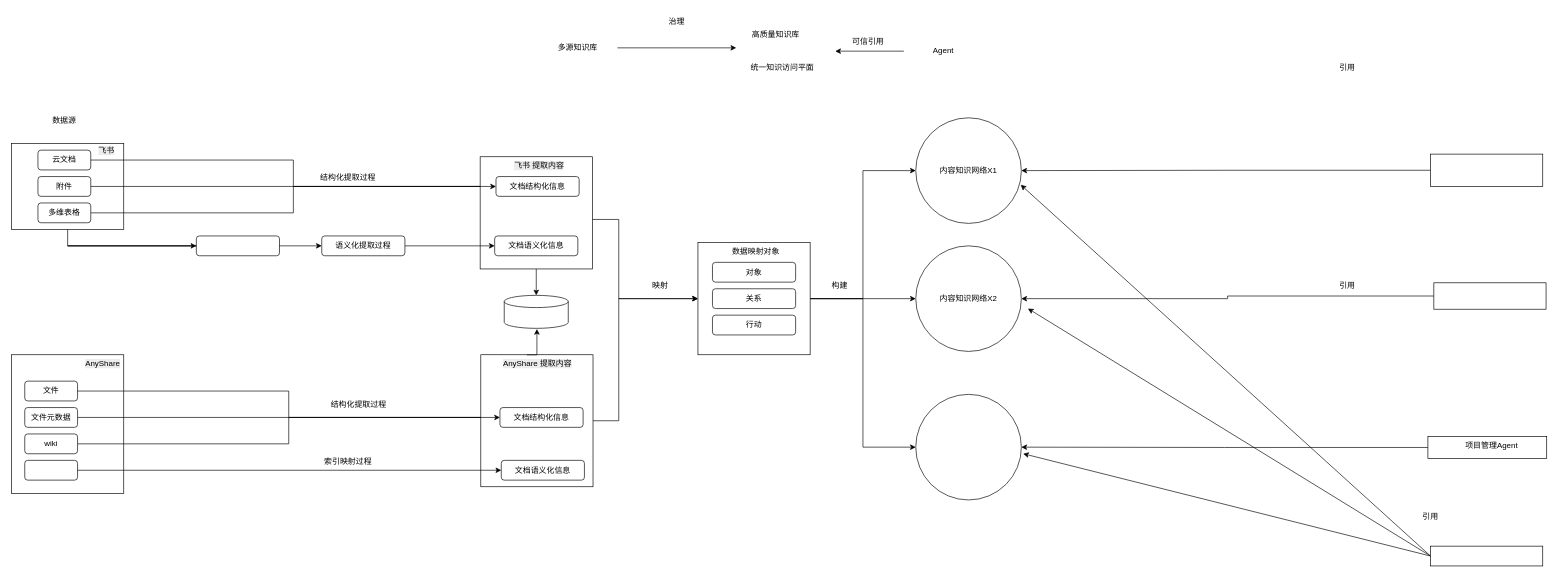
This 1558x583 diagram has some shape labels left out. The centre of each missing label's shape, as x and y in pixels:
"Storage" goes at point 536,311.
"内容知识网络X3" goes at point 968,447.
"制度问答Agent" goes at point 1489,295.
"合同审阅Agent" goes at point 1486,169.
"招投标Agent" goes at point 1486,555.
"索引" goes at point 51,470.
"语义化解析过程" goes at point 238,245.
